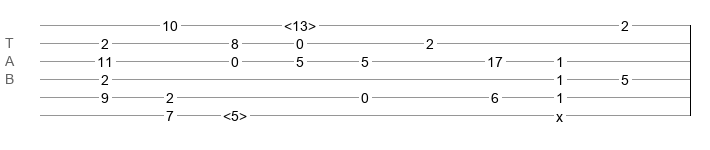0: (231, 54, 239, 64), (296, 36, 304, 46), (361, 90, 369, 100)
1: (556, 90, 564, 100), (556, 54, 564, 64), (556, 72, 564, 82)
10: (162, 18, 178, 28)
11: (97, 54, 113, 64)
17: (487, 54, 503, 64)
2: (101, 72, 109, 82), (101, 36, 109, 46), (166, 90, 174, 100), (426, 36, 434, 46), (621, 18, 629, 28)
5: (296, 54, 304, 64), (361, 54, 369, 64), (621, 72, 629, 82)
6: (491, 90, 499, 100)
7: (166, 108, 174, 118)
8: (231, 36, 239, 46)
9: (101, 90, 109, 100)
harmonic: (284, 18, 316, 28), (223, 108, 247, 118)
x: (556, 109, 563, 117)
